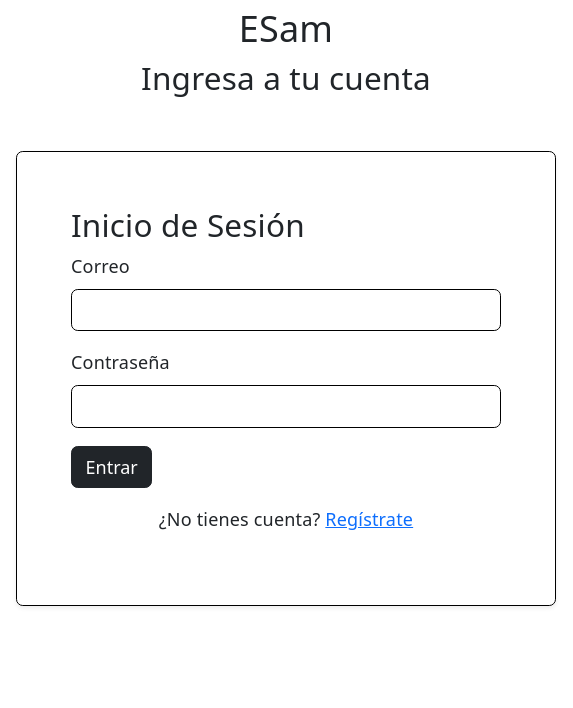
Login › Muestra error cuando el backend responde loggin en false
Type "ana@duoc.cl" into the field labelled "Correo". click: {"x": 286, "y": 310}
box: [71, 289, 501, 331]
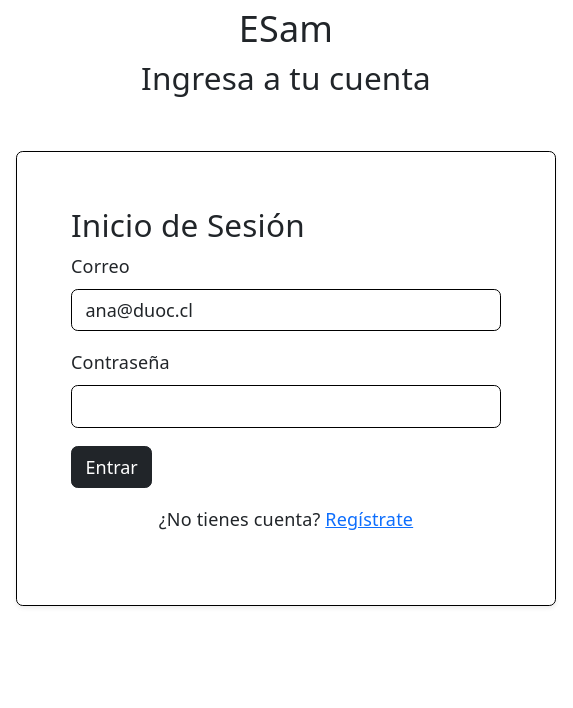
Type "clave-larga" into the password field labelled "Contraseña". click: {"x": 286, "y": 407}
box: [71, 385, 501, 428]
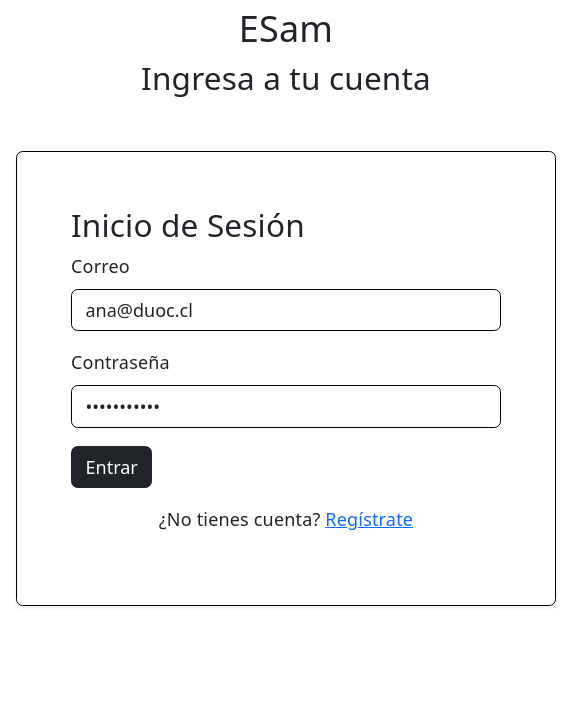
Click the button "Entrar". click: {"x": 112, "y": 467}
box: [71, 446, 152, 488]
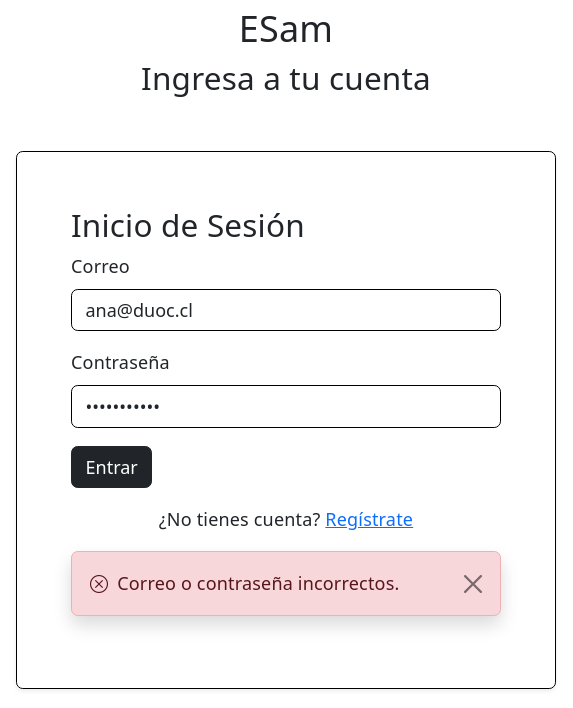
Now the text "Correo o contraseña incorrectos." is shown, box [117, 570, 400, 597]
